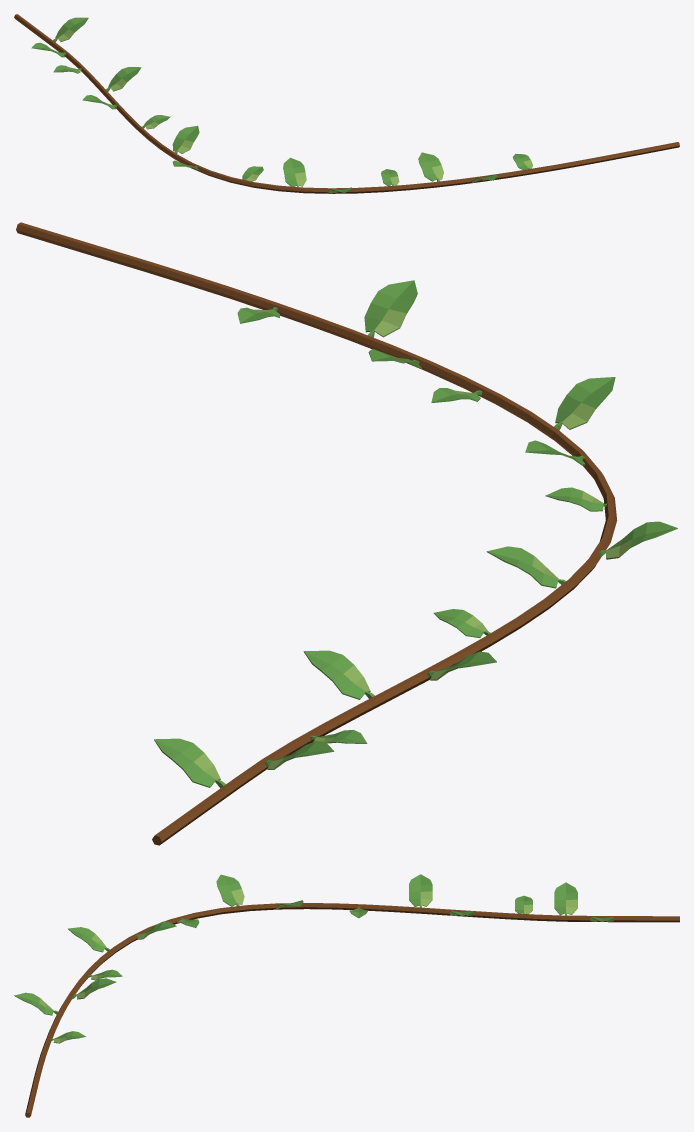
File: CloseVines.fbx
3 views of the same model, one above another, from view 1: azimuth 30°, elevation 25°; view 2: azimuth 150°, elevation 25°; view 3: azimuth 270°, elevation 25° (orthographic). The views are drawn at different scales.
Parts seen in each view (by area): view 1: Cylinder; view 2: Cylinder; view 3: Cylinder.
Boxes of the visible parts, x1,y1,x2,y2 form: Cylinder: [14, 14, 679, 193]; Cylinder: [16, 222, 677, 845]; Cylinder: [14, 874, 679, 1117].
Size of the model in its own units: 3243 by 133 by 4075.
